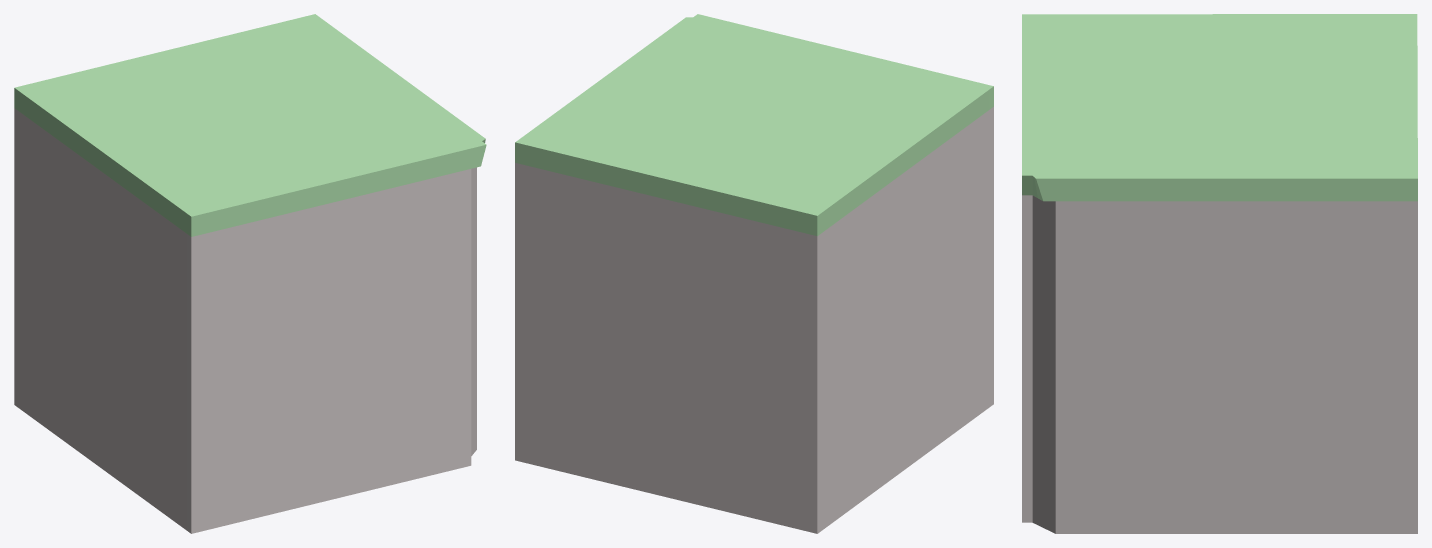
Rendered from COUNTERTOP_CORNER.fbx.
The picture shows the model from 3 angles, left to right: view 1: azimuth 30°, elevation 25°; view 2: azimuth 150°, elevation 25°; view 3: azimuth 270°, elevation 25°; orthographic projection. The views are drawn at different scales.
Visible parts, largest first — view 1: Plane.004; view 2: Plane.004; view 3: Plane.004.
Part boxes in pixels (x1,y1,x2,y2): Plane.004: [14, 14, 486, 533]; Plane.004: [515, 14, 993, 533]; Plane.004: [1022, 14, 1417, 533].
Bounding box in the file's own units: 4.09 × 4.11 × 4.16.
